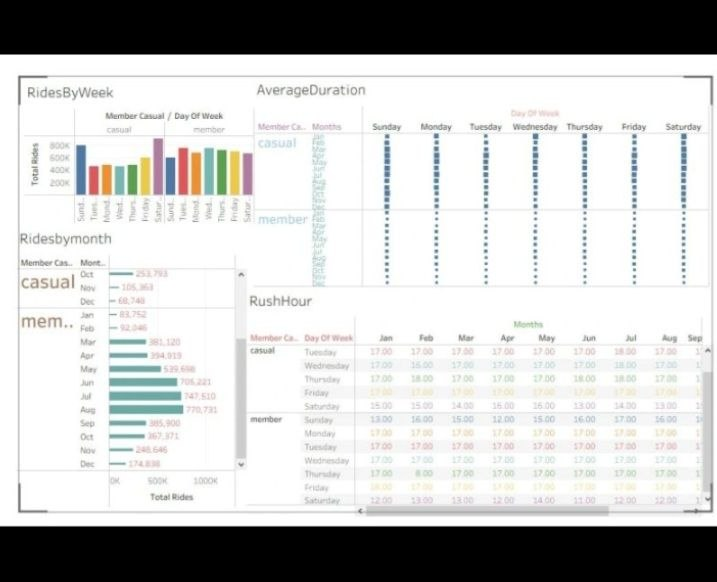

This screenshot's page, from the dashboard's own definition file:
{"tool":"tableau","page":{"name":"Dashboard 2","canvas":[650,860],"ordinal":1},"visuals":[{"type":"worksheet","title":"AvarageDuration","mark":"Automatic","rows":["member_casual","mounth"],"cols":["day_of_week"],"box":[313,1.5,334,413.3]},{"type":"worksheet","title":"RidesByWeek","mark":"Automatic","rows":["total_rides"],"cols":["member_casual","day_of_week"],"box":[5,7.2,216,285.7]},{"type":"legend","title":"RidesByWeek","param":"[federated.0uypsm91fpdugj14u2ise0ajlxgd].[none:day_of_week:nk]","box":[221,7.2,140,55.1]},{"type":"legend","title":"AvarageDuration","param":"[federated.0uypsm91fpdugj14u2ise0ajlxgd].[sum:average_duration:qk]","box":[223,129.1,140,171.1]},{"type":"legend","title":"AllRides","param":"[federated.0uypsm91fpdugj14u2ise0ajlxgd].[sum:total_rides:qk]","box":[77,306,140,56.6]},{"type":"worksheet","title":"RushHour","mark":"Automatic","rows":["member_casual","day_of_week"],"cols":["mounth"],"box":[213,364,438,493.1]},{"type":"worksheet","title":"Ridesbymonth","mark":"Automatic","rows":["member_casual","mounth"],"cols":["total_rides"],"box":[49,577.2,216,285.7]}]}

Visuals, with their boxes on the page's 650x860 design canvas (x1, y1, x2, y2). These are canvas units, not pixel positions in the 717x582 screenshot, which may show the page scaled, cropped or inside an application window:
"AvarageDuration" worksheet: (x1=313, y1=2, x2=647, y2=415)
"RidesByWeek" worksheet: (x1=5, y1=7, x2=221, y2=293)
"RidesByWeek" legend: (x1=221, y1=7, x2=361, y2=62)
"AvarageDuration" legend: (x1=223, y1=129, x2=363, y2=300)
"AllRides" legend: (x1=77, y1=306, x2=217, y2=363)
"RushHour" worksheet: (x1=213, y1=364, x2=651, y2=857)
"Ridesbymonth" worksheet: (x1=49, y1=577, x2=265, y2=863)
